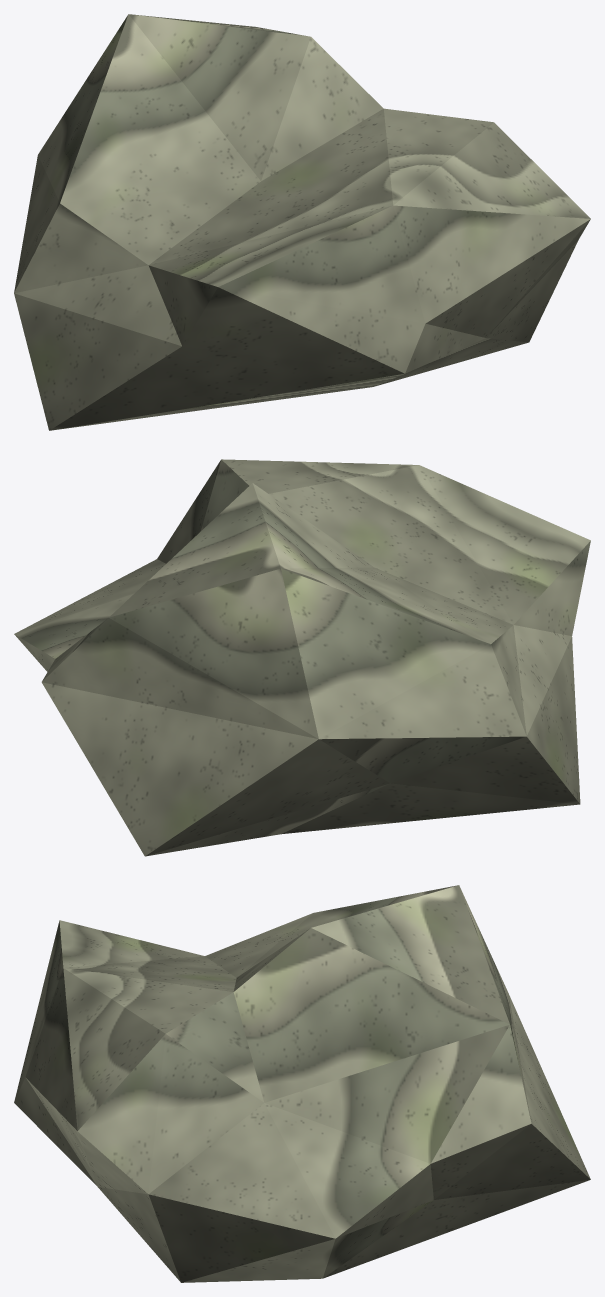
The model's file is rock_a.glb.
3 views of the same model, one above another, from view 1: azimuth 30°, elevation 25°; view 2: azimuth 150°, elevation 25°; view 3: azimuth 270°, elevation 25° (orthographic). The views are drawn at different scales.
Visible parts, largest first — view 1: rock_a; view 2: rock_a; view 3: rock_a.
Boxes of the visible parts, x1,y1,x2,y2 form: rock_a: (14, 14, 590, 430); rock_a: (14, 459, 590, 856); rock_a: (14, 885, 590, 1282).
Size of the model in its own units: 1.23 by 0.6452 by 1.18.
Materials: 1 (1 with a texture image).
